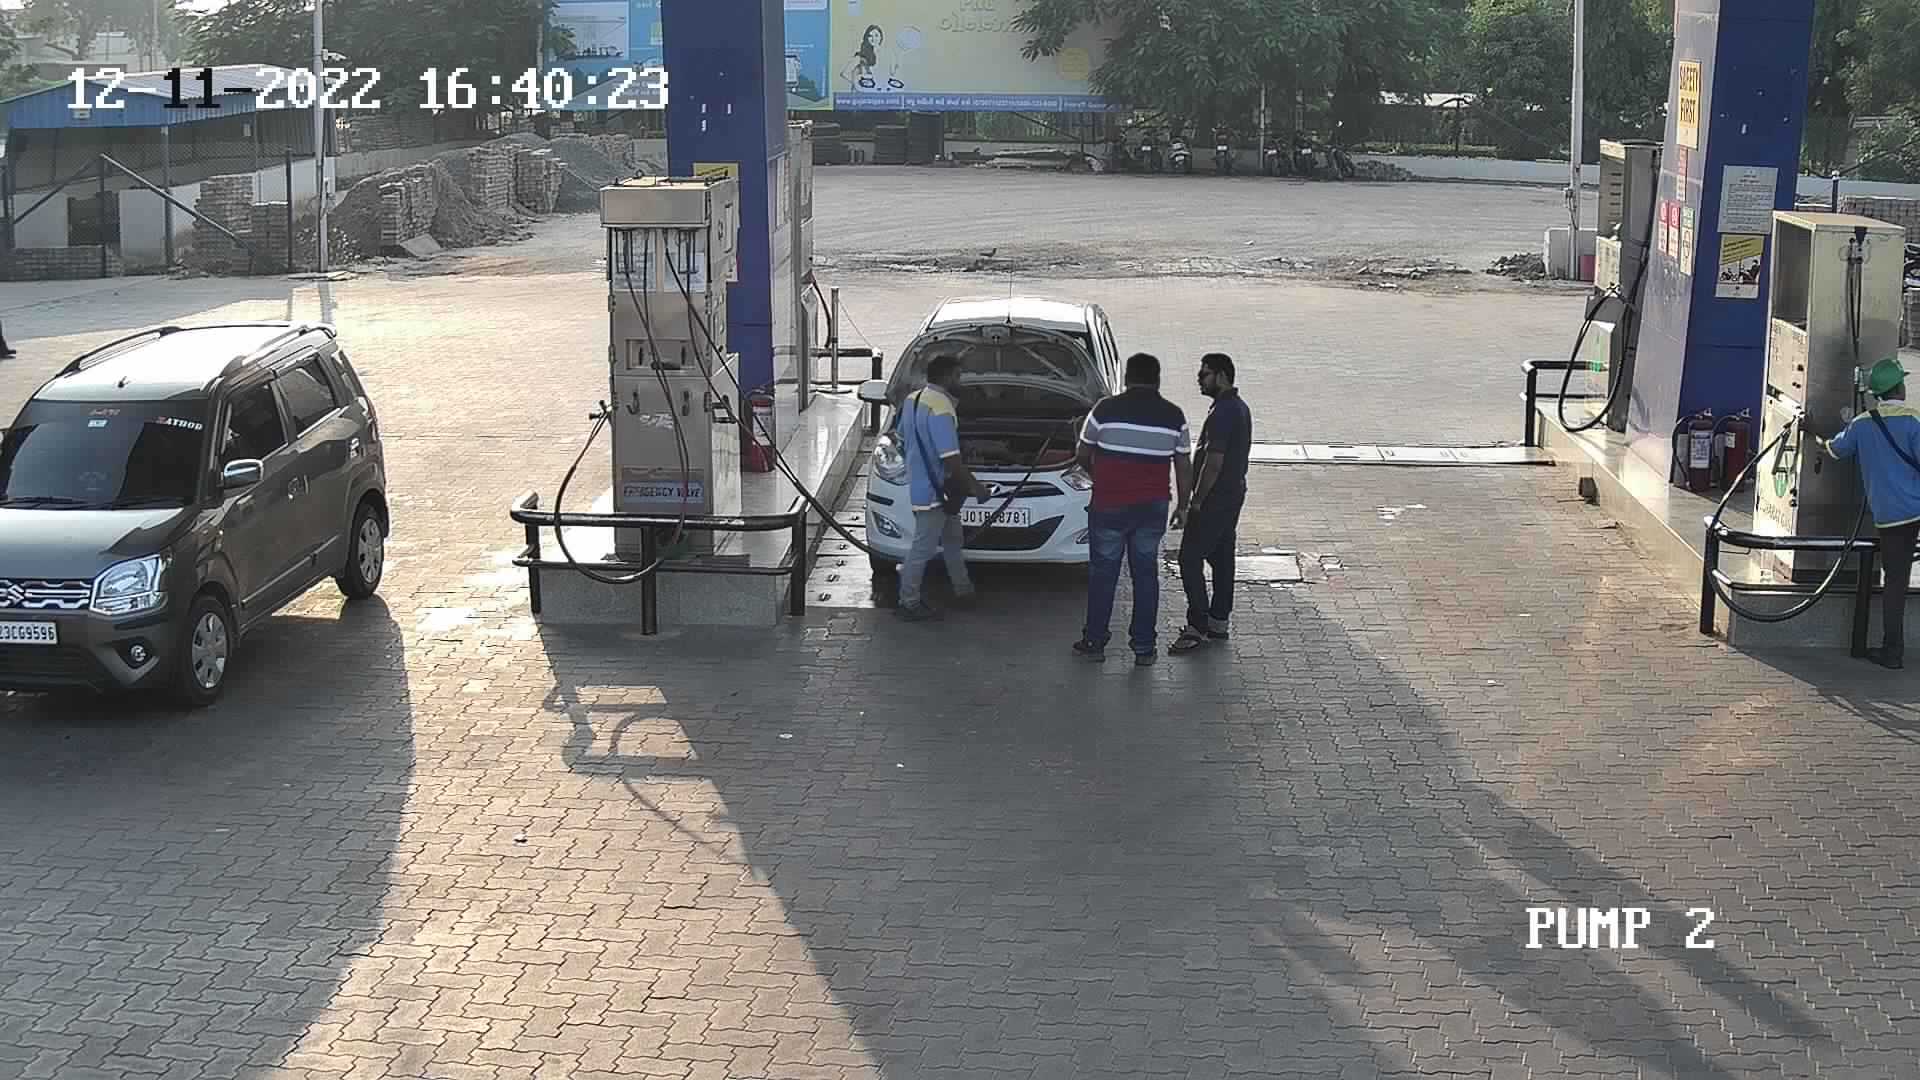Bike: (1303, 111, 1362, 182), (1196, 104, 1244, 175), (1282, 109, 1325, 181), (1162, 111, 1207, 177), (1257, 107, 1298, 173), (1127, 109, 1164, 167)
Car: (0, 309, 401, 708), (857, 281, 1149, 592)
Others: (1813, 353, 1915, 680), (886, 345, 986, 624)
